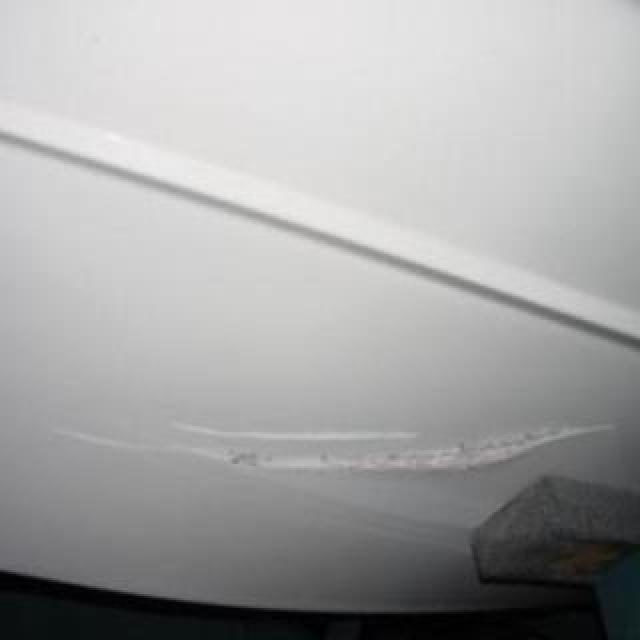crack: (49, 419, 615, 477)
